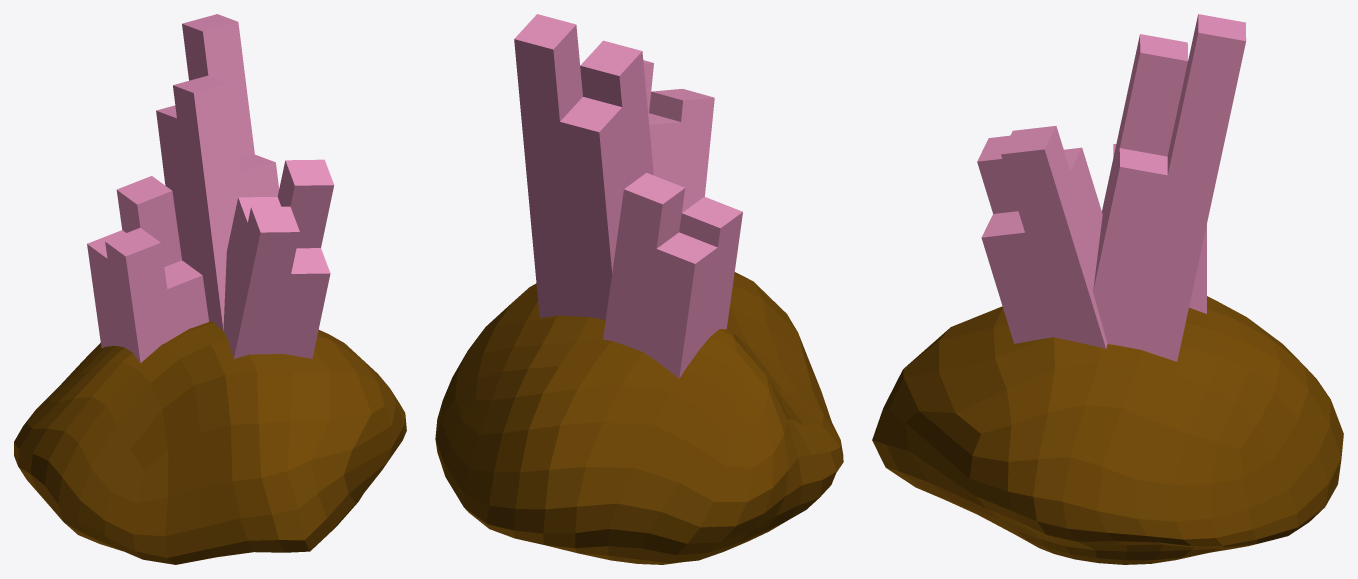
Rendered from Mineral2.fbx.
The picture shows the model from 3 angles, left to right: view 1: azimuth 30°, elevation 25°; view 2: azimuth 150°, elevation 25°; view 3: azimuth 270°, elevation 25°; orthographic projection. The views are drawn at different scales.
Visible parts, largest first — view 1: Cubo, Mine.002, Mine.001, Mine; view 2: Cubo, Mine.002, Mine, Mine.001; view 3: Cubo, Mine.002, Mine.001, Mine.
Part boxes in pixels (left/top/right/bottom): Cubo: left=14, top=320, right=406, bottom=564; Mine.002: left=156, top=14, right=279, bottom=330; Mine.001: left=223, top=159, right=334, bottom=358; Mine: left=87, top=176, right=208, bottom=362; Cubo: left=435, top=272, right=843, bottom=564; Mine.002: left=514, top=14, right=653, bottom=319; Mine: left=603, top=172, right=742, bottom=378; Mine.001: left=643, top=60, right=714, bottom=212; Cubo: left=872, top=296, right=1343, bottom=564; Mine.002: left=1093, top=14, right=1246, bottom=361; Mine.001: left=977, top=126, right=1107, bottom=348; Mine: left=1113, top=144, right=1206, bottom=313.
Size of the model in its own units: 195 by 265 by 212.
